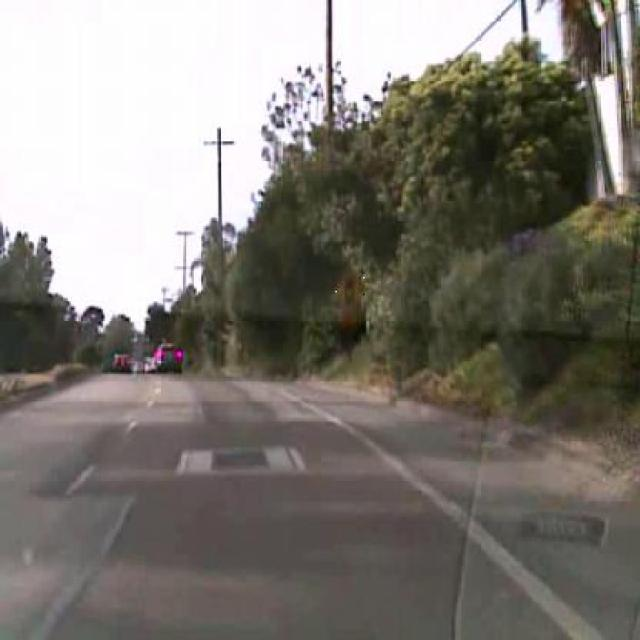signalAhead: (331, 263, 366, 319)
